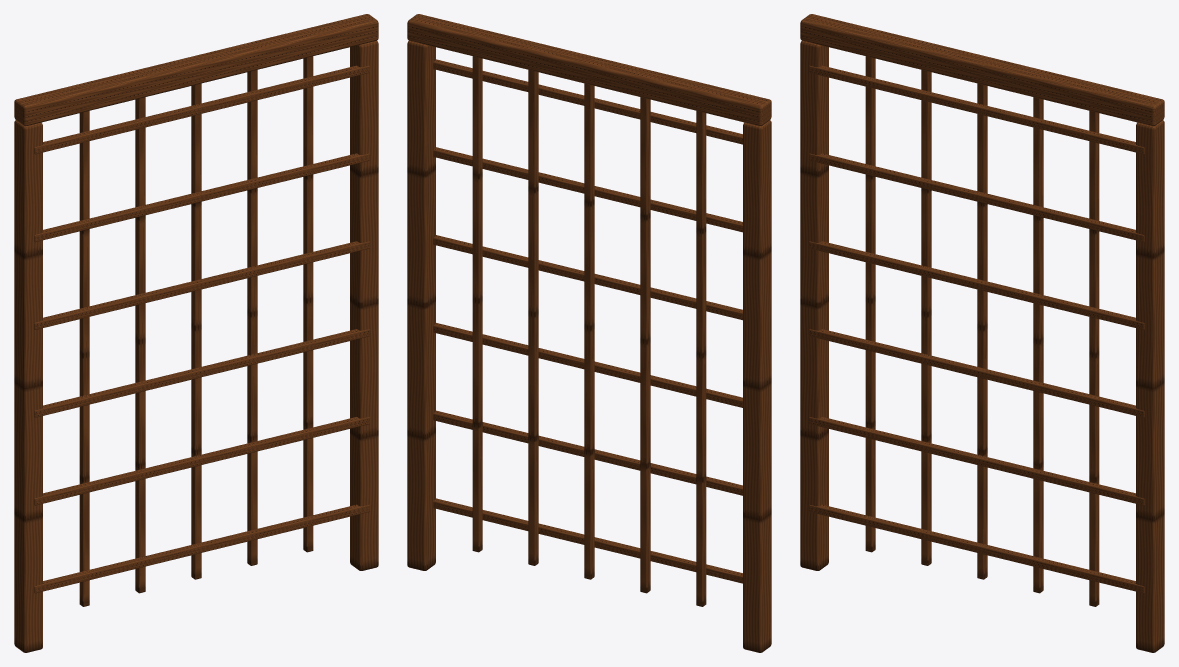
Rendered from survival-greenhouse-and-irrigation-trellis-panel-10c894b0__21317.glb.
The picture shows the model from 3 angles, left to right: view 1: azimuth 30°, elevation 25°; view 2: azimuth 150°, elevation 25°; view 3: azimuth 330°, elevation 25°; orthographic projection.
Parts seen in each view (by area): view 1: trellis-panel; view 2: trellis-panel; view 3: trellis-panel.
Boxes of the visible parts, x1,y1,x2,y2 form: trellis-panel: [14, 14, 378, 652]; trellis-panel: [407, 14, 771, 652]; trellis-panel: [800, 14, 1164, 652].
Size of the model in its own units: 1.27 by 1.87 by 0.0726.
Materials: 1 (1 with a texture image).
